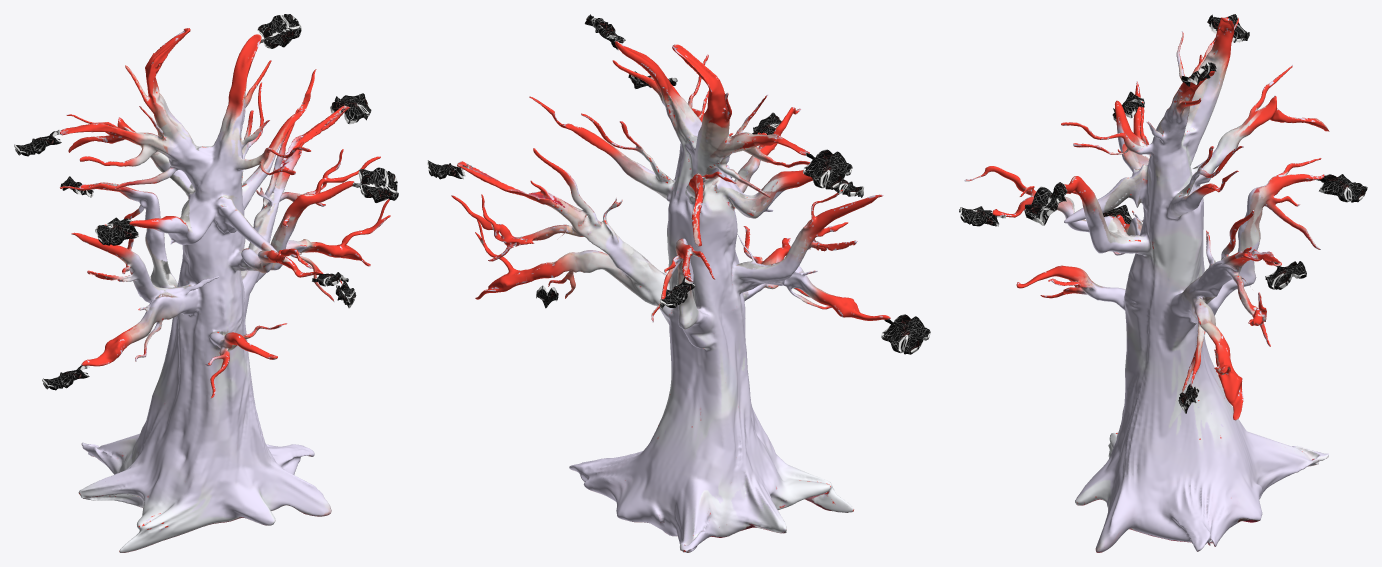
3 renders of one model, left to right at view 1: azimuth 30°, elevation 25°; view 2: azimuth 150°, elevation 25°; view 3: azimuth 270°, elevation 25°, orthographic. The views are drawn at different scales.
Parts seen in each view (by area): view 1: teste 4 arbre, vbvbvb.001, vbvbvb.004, vbvbvb.008, vbvbvb.006, vbvbvb, vbvbvb.003; view 2: teste 4 arbre, vbvbvb, vbvbvb.003; view 3: teste 4 arbre, vbvbvb.001, vbvbvb.005, vbvbvb.006, vbvbvb.002.
Part boxes in pixels (bbox=[...]): teste 4 arbre: bbox=[60, 28, 390, 552]; vbvbvb.001: bbox=[352, 167, 398, 202]; vbvbvb.004: bbox=[257, 14, 301, 48]; vbvbvb.008: bbox=[95, 217, 138, 245]; vbvbvb.006: bbox=[330, 93, 371, 124]; vbvbvb: bbox=[14, 129, 61, 156]; vbvbvb.003: bbox=[42, 365, 89, 390]; teste 4 arbre: bbox=[451, 41, 890, 552]; vbvbvb: bbox=[803, 149, 852, 189]; vbvbvb.003: bbox=[881, 314, 930, 354]; teste 4 arbre: bbox=[964, 17, 1329, 552]; vbvbvb.001: bbox=[1024, 182, 1067, 225]; vbvbvb.005: bbox=[1316, 174, 1367, 202]; vbvbvb.006: bbox=[1265, 261, 1306, 289]; vbvbvb.002: bbox=[959, 206, 1005, 226].
Size of the model in its own units: 4.88 by 5.39 by 4.04.
10 materials, 10 textured.
